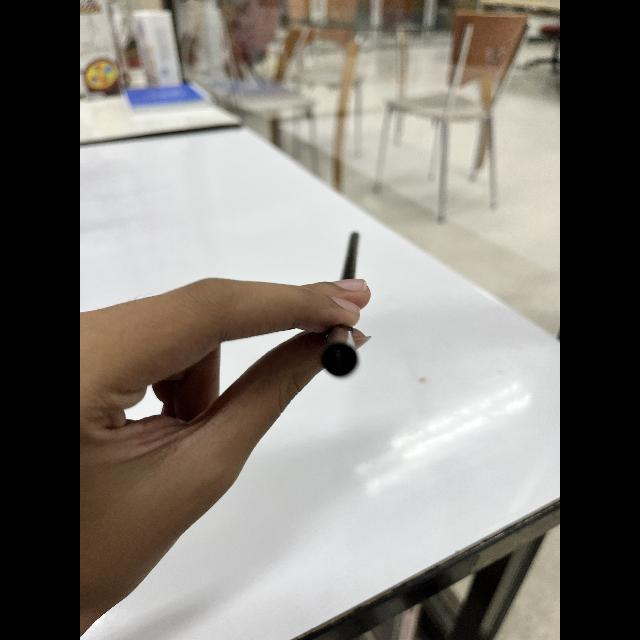straw: (322, 225, 371, 378)
